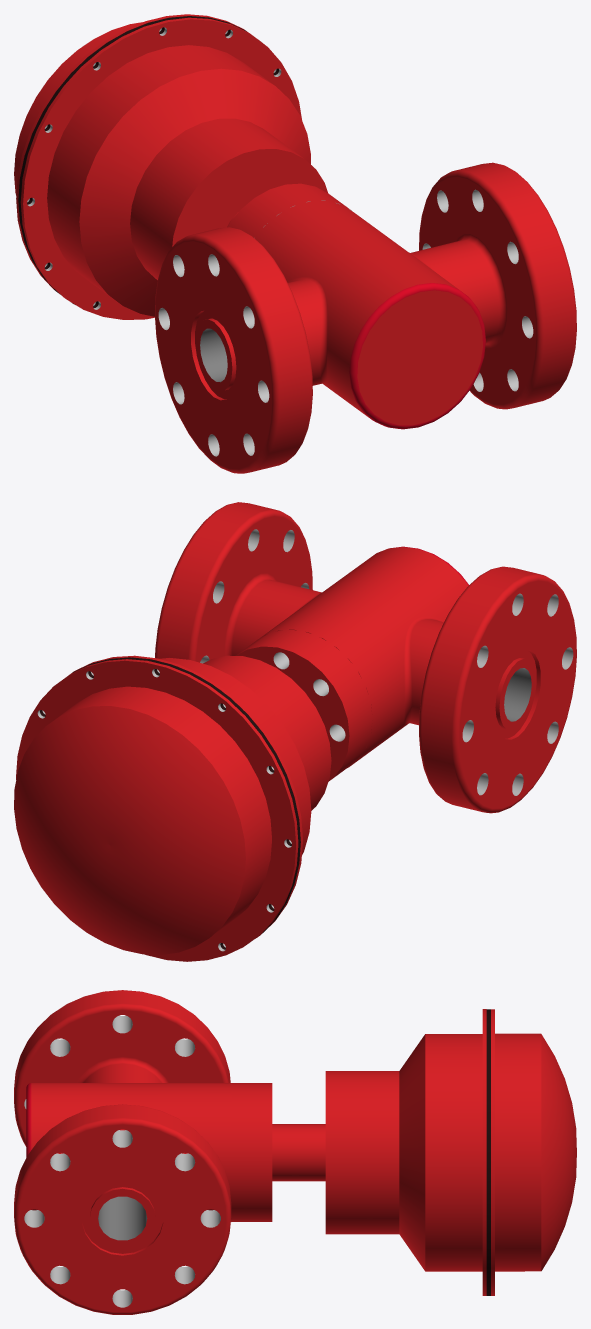
The model's file is Diaphragm Gate Valve.FBX.
3 renders of one model, top to bottom at view 1: azimuth 30°, elevation 25°; view 2: azimuth 150°, elevation 25°; view 3: azimuth 270°, elevation 25°, orthographic. The views are drawn at different scales.
Visible parts, largest first — view 1: Solid1 (×4); view 2: Solid1 (×4); view 3: Solid1 (×4).
Part boxes in pixels (x1,y1,x2,y2): Solid1 (×4): [14, 14, 576, 473]; Solid1 (×4): [14, 502, 576, 961]; Solid1 (×4): [14, 990, 576, 1314].
Size of the model in its own units: 7.6 by 7 by 13.73.
